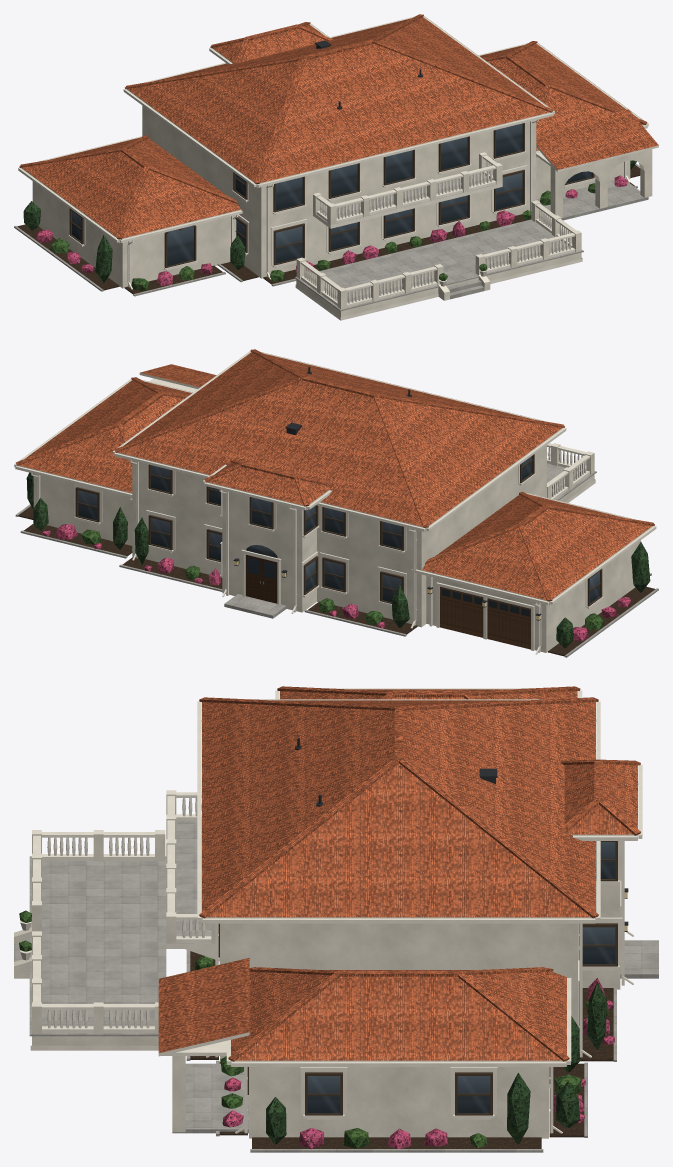
File: med_estate_2s.fbx
The picture shows the model from 3 angles, top to bottom: view 1: azimuth 30°, elevation 25°; view 2: azimuth 150°, elevation 25°; view 3: azimuth 270°, elevation 25°; orthographic projection. The views are drawn at different scales.
Visible parts, largest first — view 1: med_estate_2s_LOD0; view 2: med_estate_2s_LOD0; view 3: med_estate_2s_LOD0.
Boxes of the visible parts, left/top/right/bottom form: med_estate_2s_LOD0: left=14, top=14, right=658, bottom=320; med_estate_2s_LOD0: left=14, top=349, right=658, bottom=657; med_estate_2s_LOD0: left=14, top=686, right=658, bottom=1152.
Size of what is drawn, in the model's own units: 30.88 by 8.49 by 21.61.
2 materials, 2 textured.
